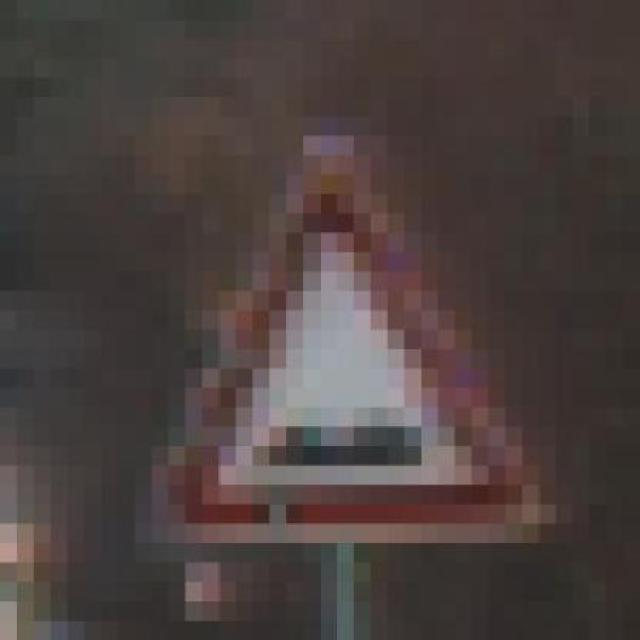Uneven Road: (152, 97, 556, 563)
